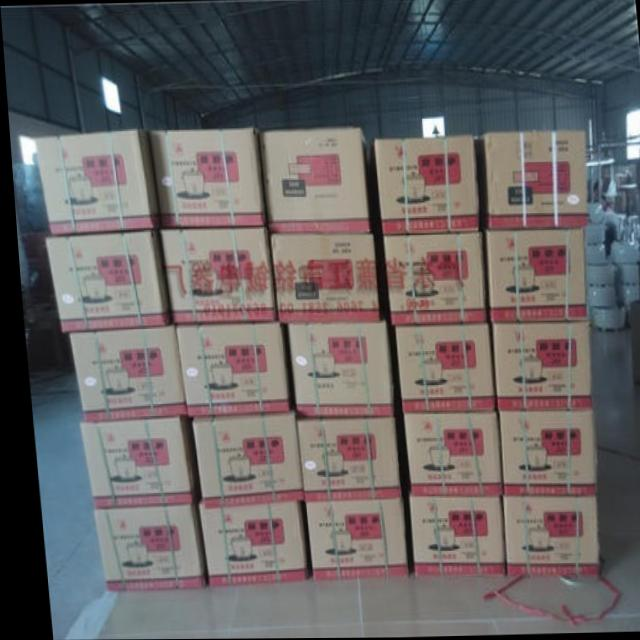box: (30, 129, 158, 235), (40, 231, 164, 334), (146, 126, 264, 229), (255, 127, 366, 235), (157, 228, 272, 323), (63, 328, 179, 421), (170, 324, 284, 418), (72, 417, 187, 510), (370, 135, 474, 236), (282, 318, 388, 417), (481, 130, 585, 230), (185, 414, 296, 507), (84, 505, 196, 593), (266, 235, 375, 324), (479, 230, 582, 322), (379, 234, 481, 326), (190, 503, 300, 587), (486, 322, 586, 411), (389, 324, 489, 410), (290, 419, 392, 503), (397, 411, 496, 497), (492, 412, 590, 496), (298, 501, 399, 581), (493, 498, 593, 578), (401, 497, 498, 577)
